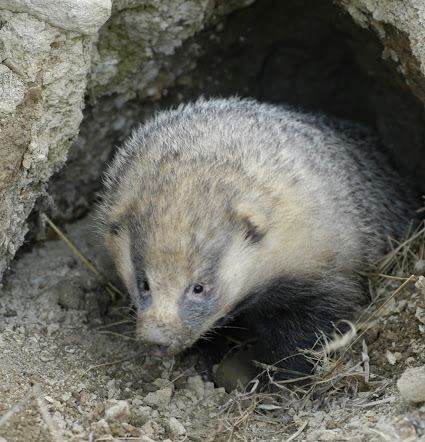badger: (92, 98, 414, 357)
